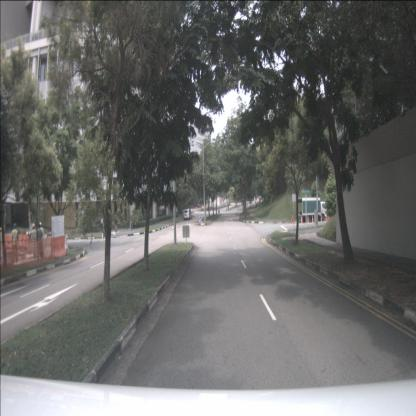barrier: (50, 235, 66, 258), (38, 239, 52, 260), (18, 234, 30, 250), (2, 234, 13, 250)
cone: (320, 213, 323, 222), (307, 216, 309, 223), (301, 216, 303, 223), (312, 215, 314, 222)
